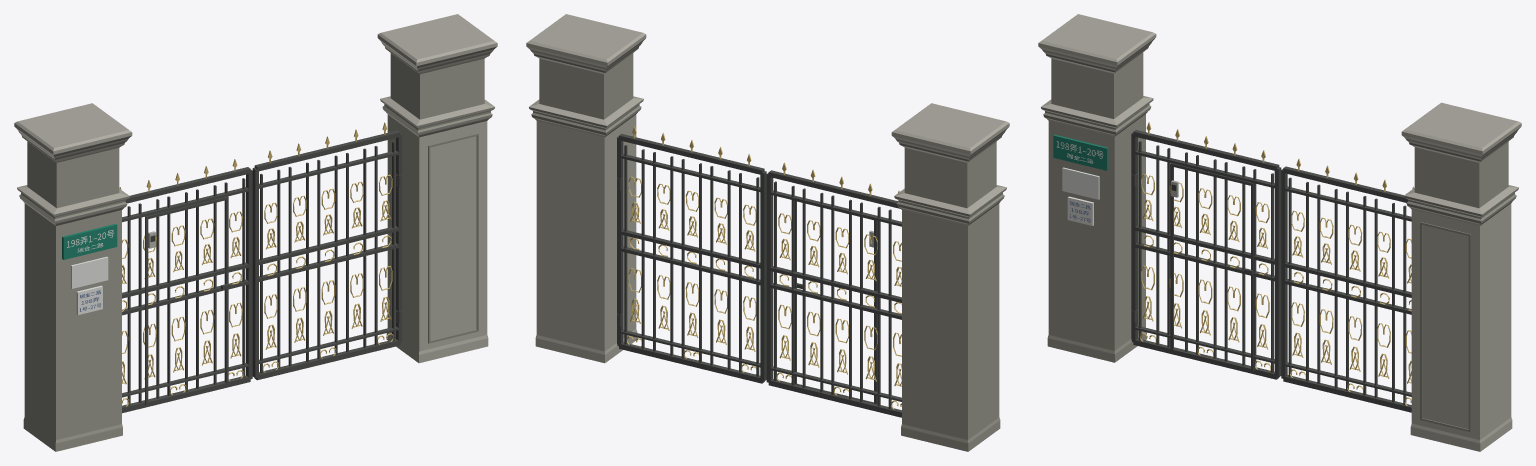
File: huangpu-anhe-terrace-ruijin-gate-lod.glb
The picture shows the model from 3 angles, left to right: view 1: azimuth 30°, elevation 25°; view 2: azimuth 150°, elevation 25°; view 3: azimuth 330°, elevation 25°; orthographic projection.
Parts seen in each view (by area): view 1: 安和新村瑞金二路198弄金饰铁门与门牌柱; view 2: 安和新村瑞金二路198弄金饰铁门与门牌柱; view 3: 安和新村瑞金二路198弄金饰铁门与门牌柱.
Part boxes in pixels (x1,y1,x2,y2): 安和新村瑞金二路198弄金饰铁门与门牌柱: (14,14,497,451); 安和新村瑞金二路198弄金饰铁门与门牌柱: (526,14,1009,451); 安和新村瑞金二路198弄金饰铁门与门牌柱: (1038,14,1521,451).
Size of the model in its own units: 6.12 by 4.03 by 0.926.
